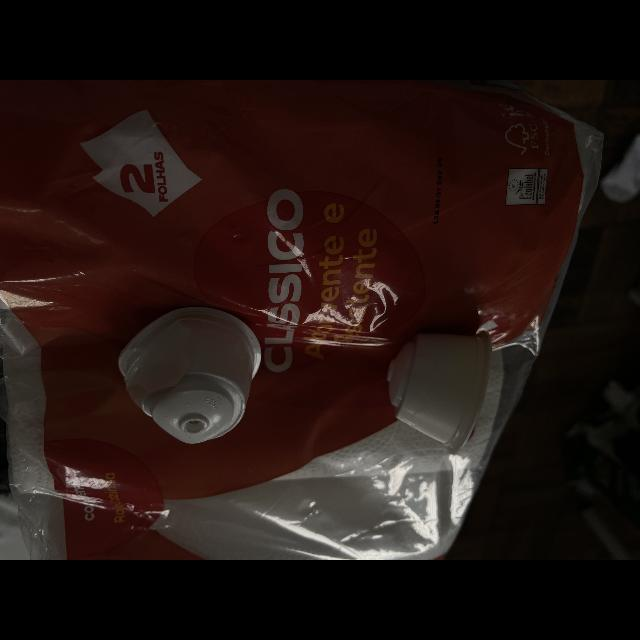damaged_capsule: (112, 301, 270, 454)
intact_capsule: (378, 322, 520, 452)
